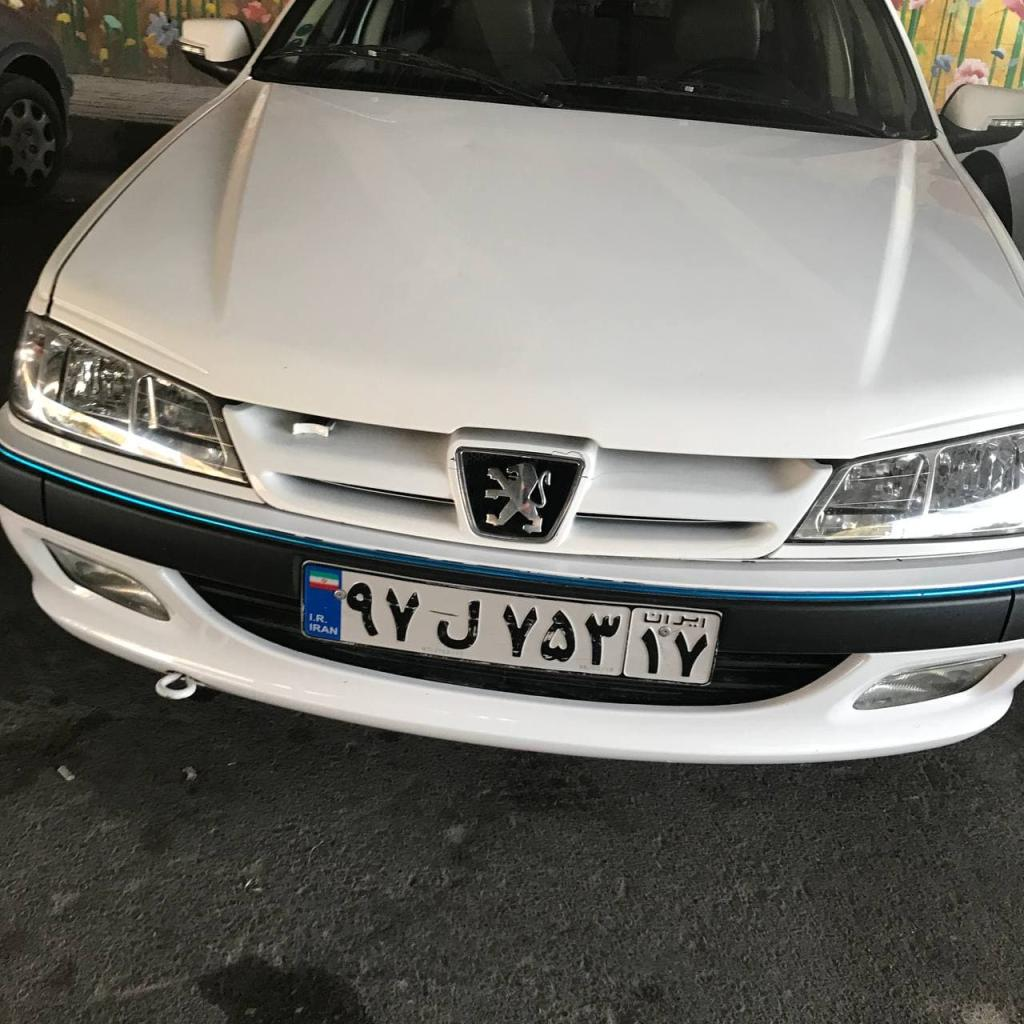Plates: (304, 563, 720, 685)
